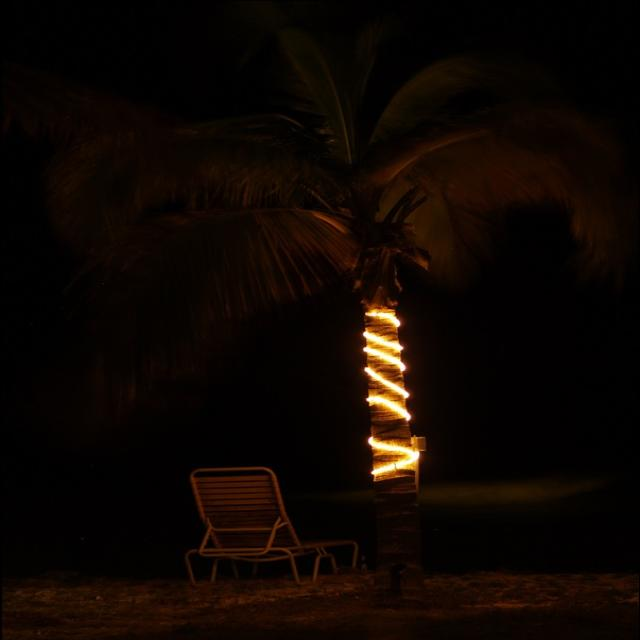chair: (195, 427, 356, 637)
